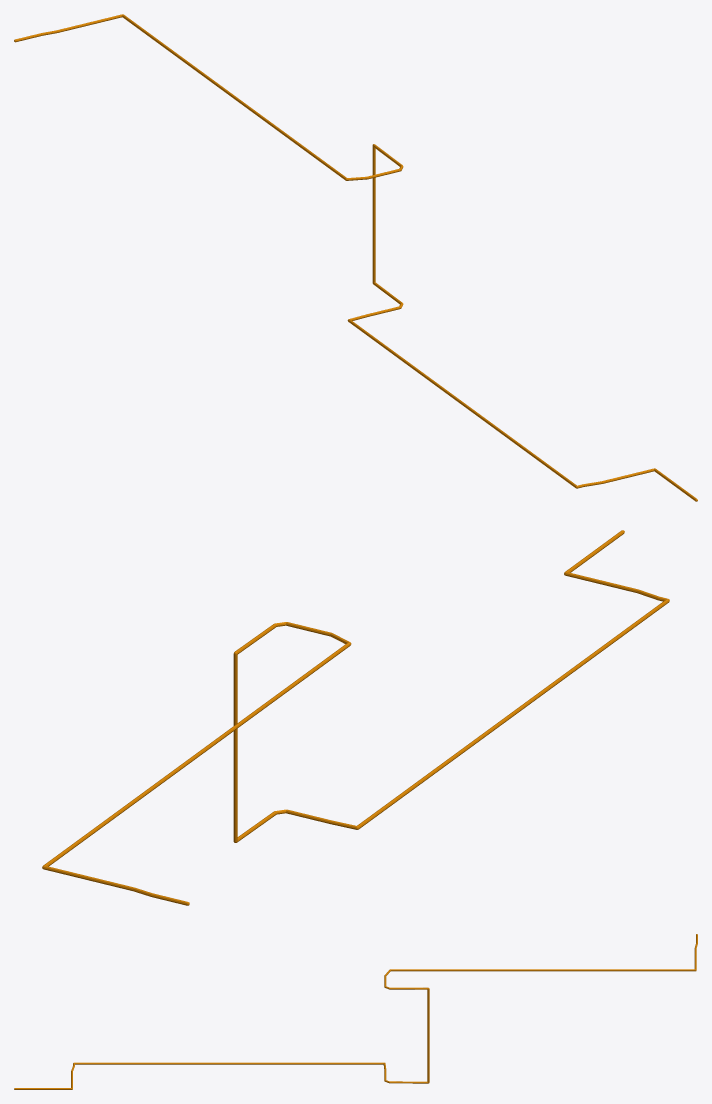
3 views of the same model, one above another, from view 1: azimuth 30°, elevation 25°; view 2: azimuth 150°, elevation 25°; view 3: azimuth 270°, elevation 25° (orthographic). The views are drawn at different scales.
Size of the model in its own units: 1397 by 1020 by 6608.
